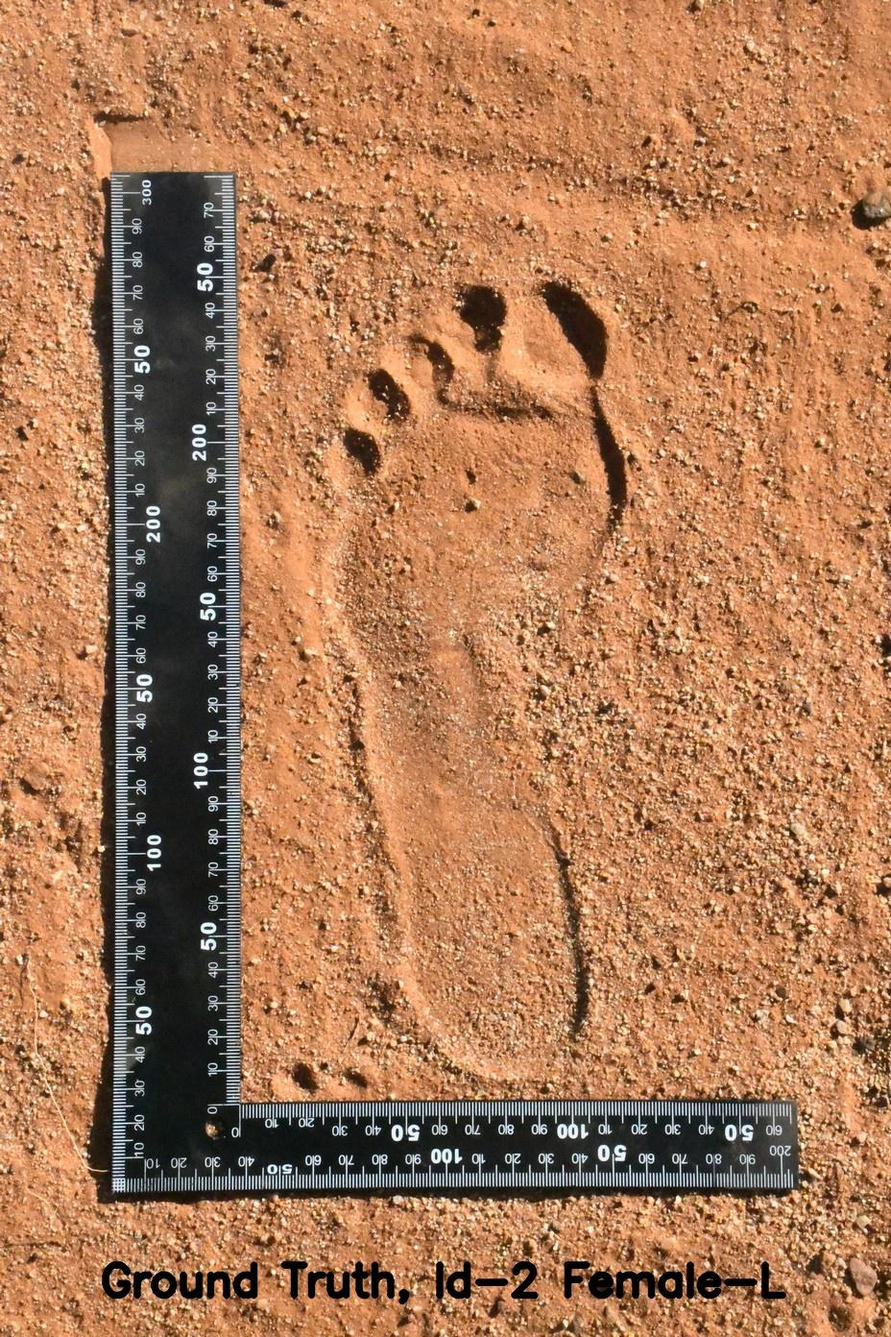human_footprint: (266, 215, 657, 1085)
